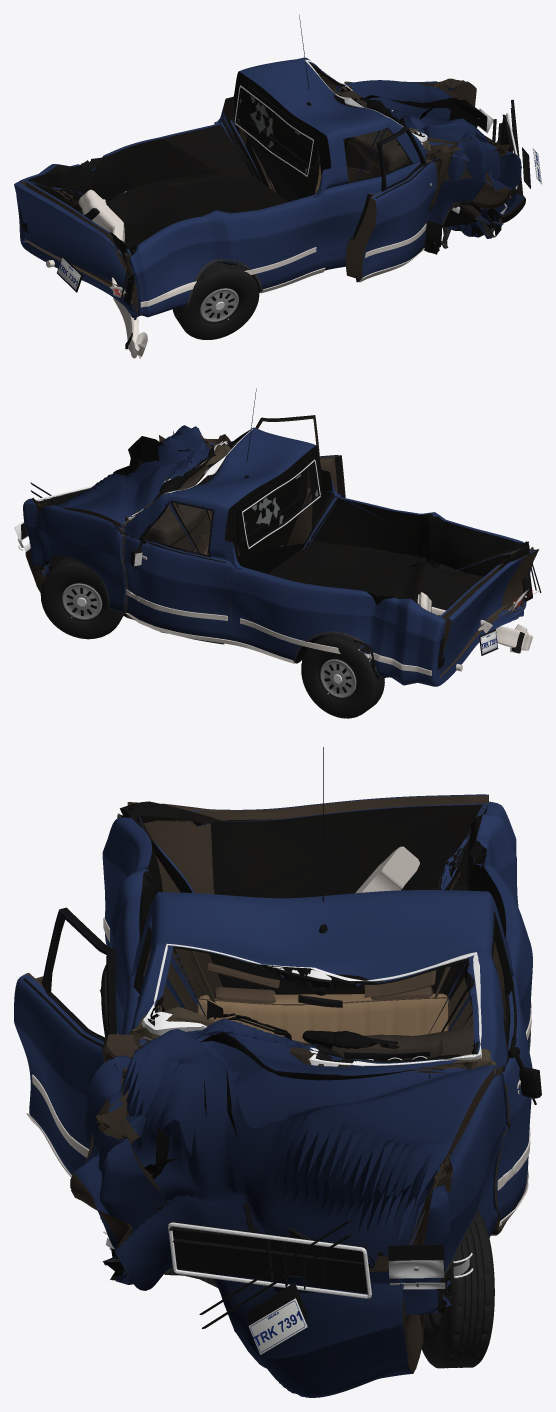
The model's file is pickup87_front_corner_R_d3.glb.
The picture shows the model from 3 angles, top to bottom: view 1: azimuth 30°, elevation 25°; view 2: azimuth 150°, elevation 25°; view 3: azimuth 270°, elevation 25°; orthographic projection. The views are drawn at different scales.
Parts seen in each view (by area): view 1: Body, Door_FR, Hood, Tailgate, Wheel_RR_mesh, Ends, Interior, Trim, Bumper_R, Glass, Trim_FR; view 2: Body, Door_FL, Hood, Wheel_RL_mesh, Wheel_FL_mesh, Tailgate, Trim, Interior, Trim_FL, Ends, Glass, Bumper_R (+1 smaller); view 3: Body, Hood, Ends, Interior, Door_FR, Wheel_FL_mesh, Door_FL, Glass, Tailgate, Trim, Trim_FL, Trim_FR (+1 smaller).
Boxes of the visible parts, box(x1,y1,x2,y2) form: Body: box(16, 57, 521, 320); Door_FR: box(345, 126, 437, 279); Hood: box(346, 80, 525, 236); Tailgate: box(14, 182, 134, 304); Wheel_RR_mesh: box(172, 262, 259, 339); Ends: box(19, 99, 541, 305); Interior: box(315, 90, 408, 193); Trim: box(140, 15, 503, 307); Bumper_R: box(78, 189, 147, 358); Glass: box(234, 59, 427, 176); Trim_FR: box(356, 128, 433, 282); Body: box(23, 426, 533, 686); Door_FL: box(122, 499, 231, 639); Hood: box(25, 425, 214, 592); Wheel_RL_mesh: box(301, 634, 384, 718); Wheel_FL_mesh: box(40, 558, 123, 639); Tailgate: box(440, 549, 539, 674); Trim: box(41, 388, 463, 677); Interior: box(143, 468, 212, 554); Trim_FL: box(125, 500, 230, 644); Ends: box(14, 482, 541, 669); Glass: box(128, 429, 320, 548); Bumper_R: box(417, 592, 532, 653); Body: box(85, 801, 532, 1314); Hood: box(70, 1019, 497, 1397); Ends: box(99, 1202, 473, 1354); Interior: box(197, 962, 473, 1060); Door_FR: box(14, 907, 117, 1175); Wheel_FL_mesh: box(421, 1211, 494, 1368); Door_FL: box(491, 910, 532, 1221); Glass: box(141, 944, 481, 1066); Tailgate: box(127, 794, 488, 820); Trim: box(102, 747, 531, 1302); Trim_FL: box(491, 911, 541, 1226); Trim_FR: box(23, 910, 109, 1177).
Bounding box in the file's own units: 4.88 × 2.57 × 2.49.
Materials: 33 (5 with a texture image).
